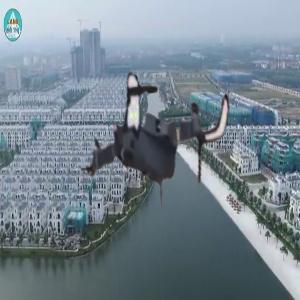drone: (75, 52, 237, 214)
